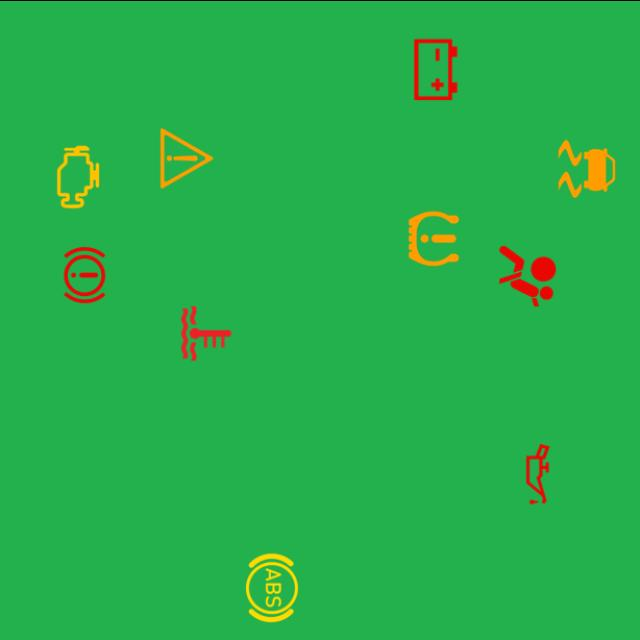Anti Lock Braking System: (234, 550, 310, 624)
Braking System Issue: (47, 236, 122, 312)
Charging System Issue: (398, 32, 473, 106)
Check Engine: (40, 138, 116, 214)
Electronic Stability Problem -ESP-: (550, 130, 624, 206)
Engine Overheating Warning Light: (169, 295, 244, 370)
Low Engine Oil Warning Light: (500, 436, 576, 510)
Low Tire Pressure Warning Light: (396, 200, 471, 275)
Master warning light: (149, 120, 224, 195)
SRS-Airbag: (490, 238, 565, 312)
